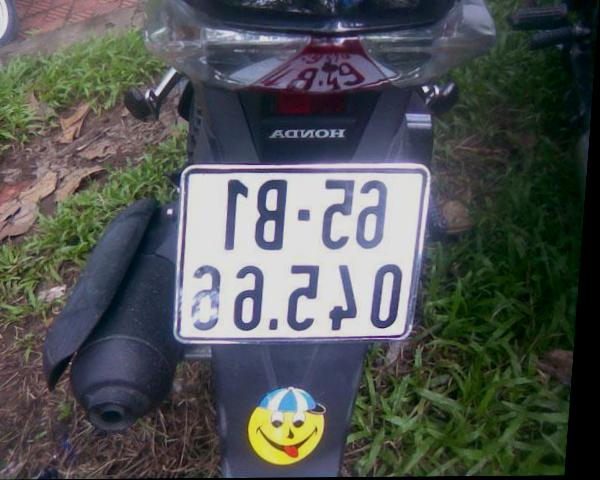License_Plate: (176, 166, 430, 342)
